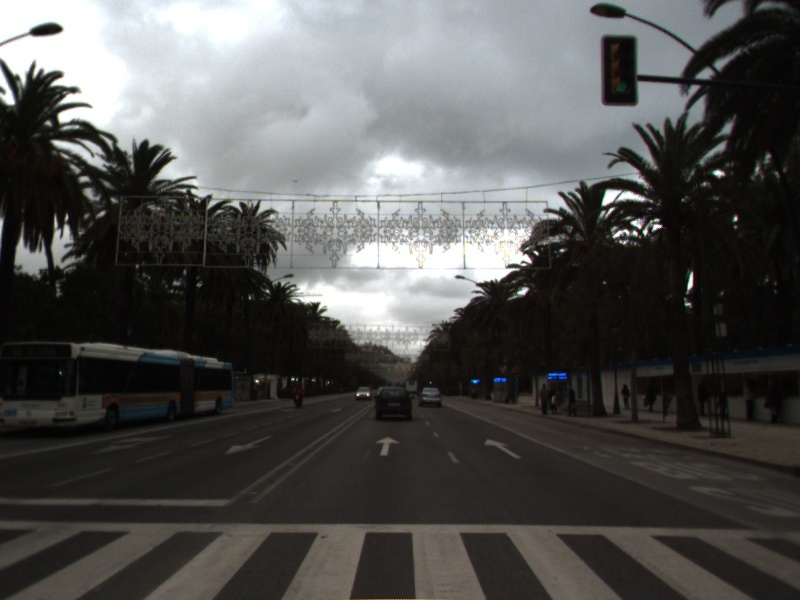STRAIGHT: (482, 436, 524, 461), (373, 434, 401, 458)
